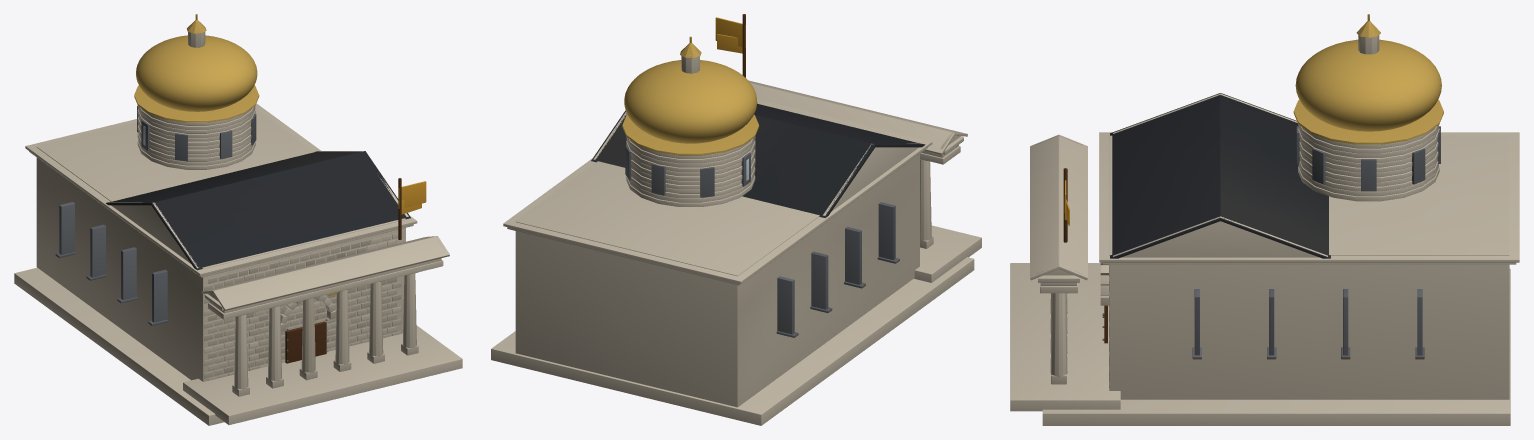
File: building_church_grand_temple.fbx
3 views of the same model, side by side, from view 1: azimuth 30°, elevation 25°; view 2: azimuth 150°, elevation 25°; view 3: azimuth 270°, elevation 25° (orthographic). The views are drawn at different scales.
Parts seen in each view (by area): view 1: building_church_grand_temple; view 2: building_church_grand_temple; view 3: building_church_grand_temple.
Boxes of the visible parts, x1,y1,x2,y2 form: building_church_grand_temple: (14,14,462,425); building_church_grand_temple: (491,14,981,425); building_church_grand_temple: (1010,14,1519,425).
Bounding box in the file's own units: 10.4 × 11.36 × 15.45.
